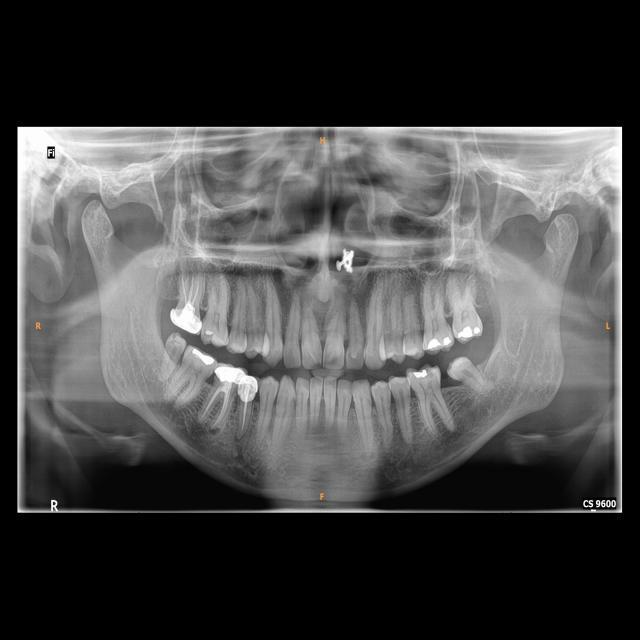dolgu: (424, 328, 453, 352), (190, 345, 218, 369), (454, 323, 486, 342), (410, 365, 433, 385)
kanal-tedavisi: (177, 271, 202, 308), (204, 386, 230, 420), (239, 400, 252, 429)
kaplama: (166, 306, 202, 333), (215, 364, 245, 386), (238, 377, 258, 402)
